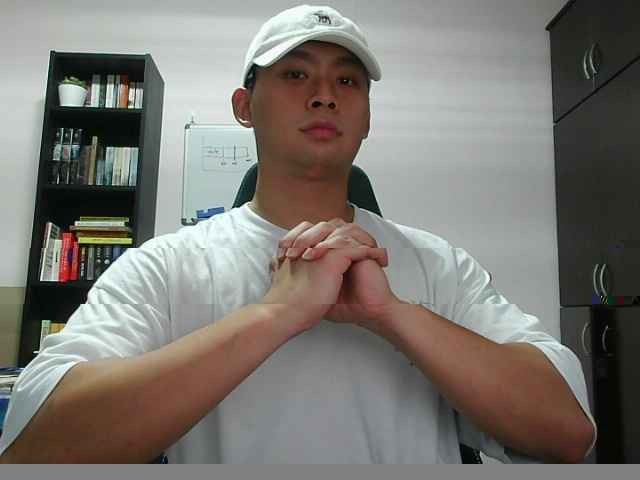Serpent: (249, 204, 410, 356)
